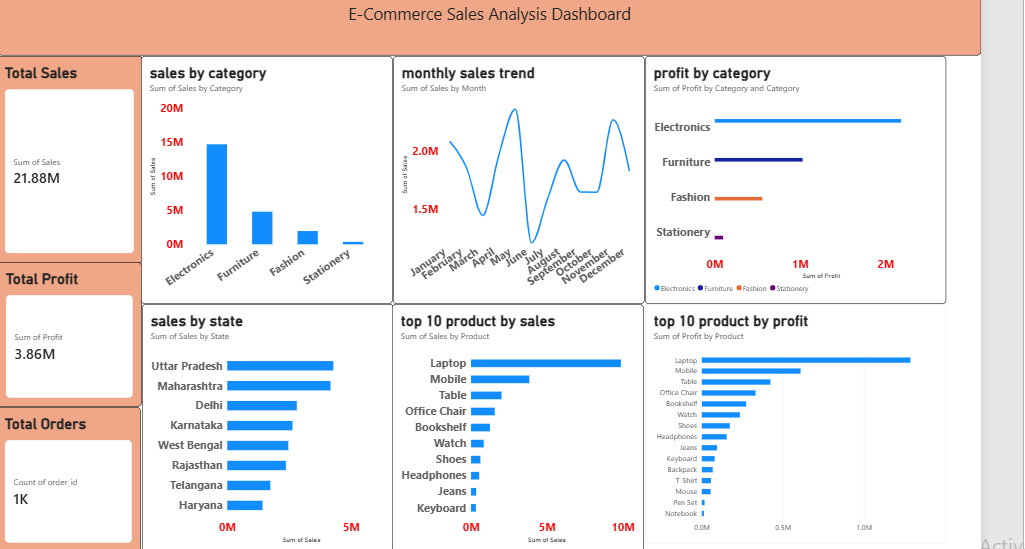

Layout of this report page (visuals, bound fields, positions):
{"tool":"powerbi","page":{"name":"Page 1","canvas":[1920,1080],"ordinal":0},"visuals":[{"type":"cardVisual","title":"Total Sales","fields":{"Data":["Sum(ecommerce_Sales_cleaned.Sales)"]},"box":[12.8,119.1,284.9,399.7],"z":0},{"type":"cardVisual","title":"Total Profit","fields":{"Data":["Sum(ecommerce_Sales_cleaned.Profit)"]},"box":[14.9,518.7,280,280],"z":1},{"type":"cardVisual","title":"Total Orders","fields":{"Data":["Count(ecommerce_Sales_cleaned.order_id)"]},"box":[12.8,799.4,280,280],"z":2},{"type":"columnChart","title":"sales by category","fields":{"Category":["ecommerce_Sales_cleaned.Category"],"Y":["Sum(ecommerce_Sales_cleaned.Sales)"]},"box":[293.4,119.1,486.9,480.5],"z":3},{"type":"clusteredBarChart","title":"sales by state","fields":{"Category":["ecommerce_Sales_cleaned.State"],"Y":["Sum(ecommerce_Sales_cleaned.Sales)"]},"box":[295.5,599.5,486.9,480.5],"z":4},{"type":"lineChart","title":"monthly sales trend","fields":{"Category":["ecommerce_Sales_cleaned.Order_Date.Variation.Date Hierarchy.Month"],"Y":["Sum(ecommerce_Sales_cleaned.Sales)"]},"box":[782.4,119.1,487,480],"z":5},{"type":"clusteredBarChart","title":"profit by category","fields":{"Category":["ecommerce_Sales_cleaned.Category"],"Series":["ecommerce_Sales_cleaned.Category"],"Y":["Sum(ecommerce_Sales_cleaned.Profit)"]},"box":[1269.2,119.1,582.5,480.5],"z":6},{"type":"barChart","title":"top 10 product by sales","fields":{"Category":["ecommerce_Sales_cleaned.Product"],"Y":["Sum(ecommerce_Sales_cleaned.Sales)"]},"box":[780.2,599.5,487,480],"z":7},{"type":"textbox","box":[1285,495,487,480],"z":8},{"type":"textbox","box":[17,0,1902.8,119.1],"z":9},{"type":"clusteredBarChart","title":"top 10 product by profit","fields":{"Category":["ecommerce_Sales_cleaned.Product"],"Y":["Sum(ecommerce_Sales_cleaned.Profit)"]},"box":[1269.2,599.5,582.5,463.5],"z":10}]}

Visuals, with their boxes in screenshot pixels (x1, y1, x2, y2):
"Total Sales" cardVisual: <box>0,54,136,262</box>
"Total Profit" cardVisual: <box>0,262,135,408</box>
"Total Orders" cardVisual: <box>0,408,134,548</box>
"sales by category" columnChart: <box>134,54,388,304</box>
"sales by state" clusteredBarChart: <box>135,304,389,548</box>
"monthly sales trend" lineChart: <box>389,54,642,304</box>
"profit by category" clusteredBarChart: <box>642,54,945,304</box>
"top 10 product by sales" barChart: <box>387,304,641,548</box>
textbox: <box>650,250,904,500</box>
textbox: <box>0,0,981,54</box>
"top 10 product by profit" clusteredBarChart: <box>642,304,945,545</box>
